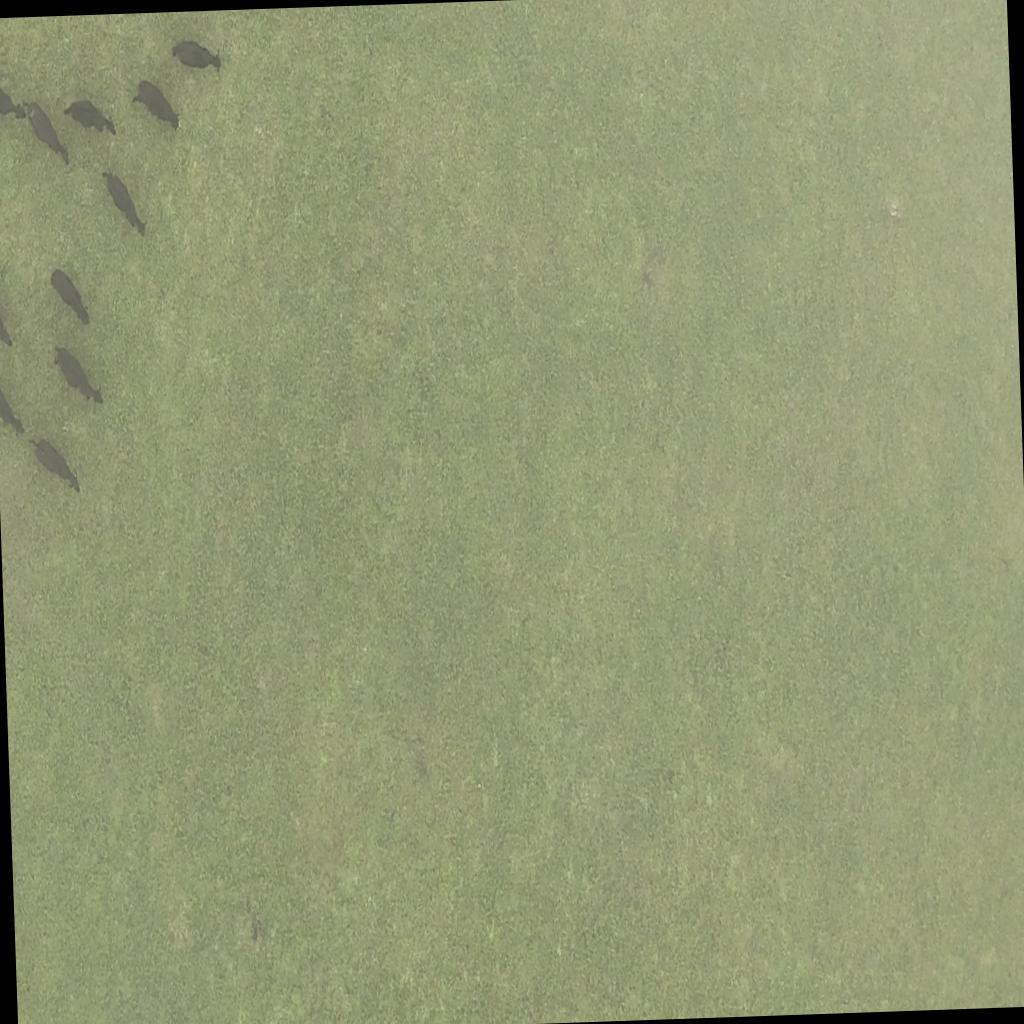cow: (52, 344, 102, 408), (23, 100, 70, 168), (104, 170, 146, 238), (31, 437, 80, 493), (130, 78, 180, 132), (50, 266, 90, 328), (62, 96, 116, 140), (0, 359, 26, 437), (170, 36, 220, 76), (0, 71, 23, 120)
